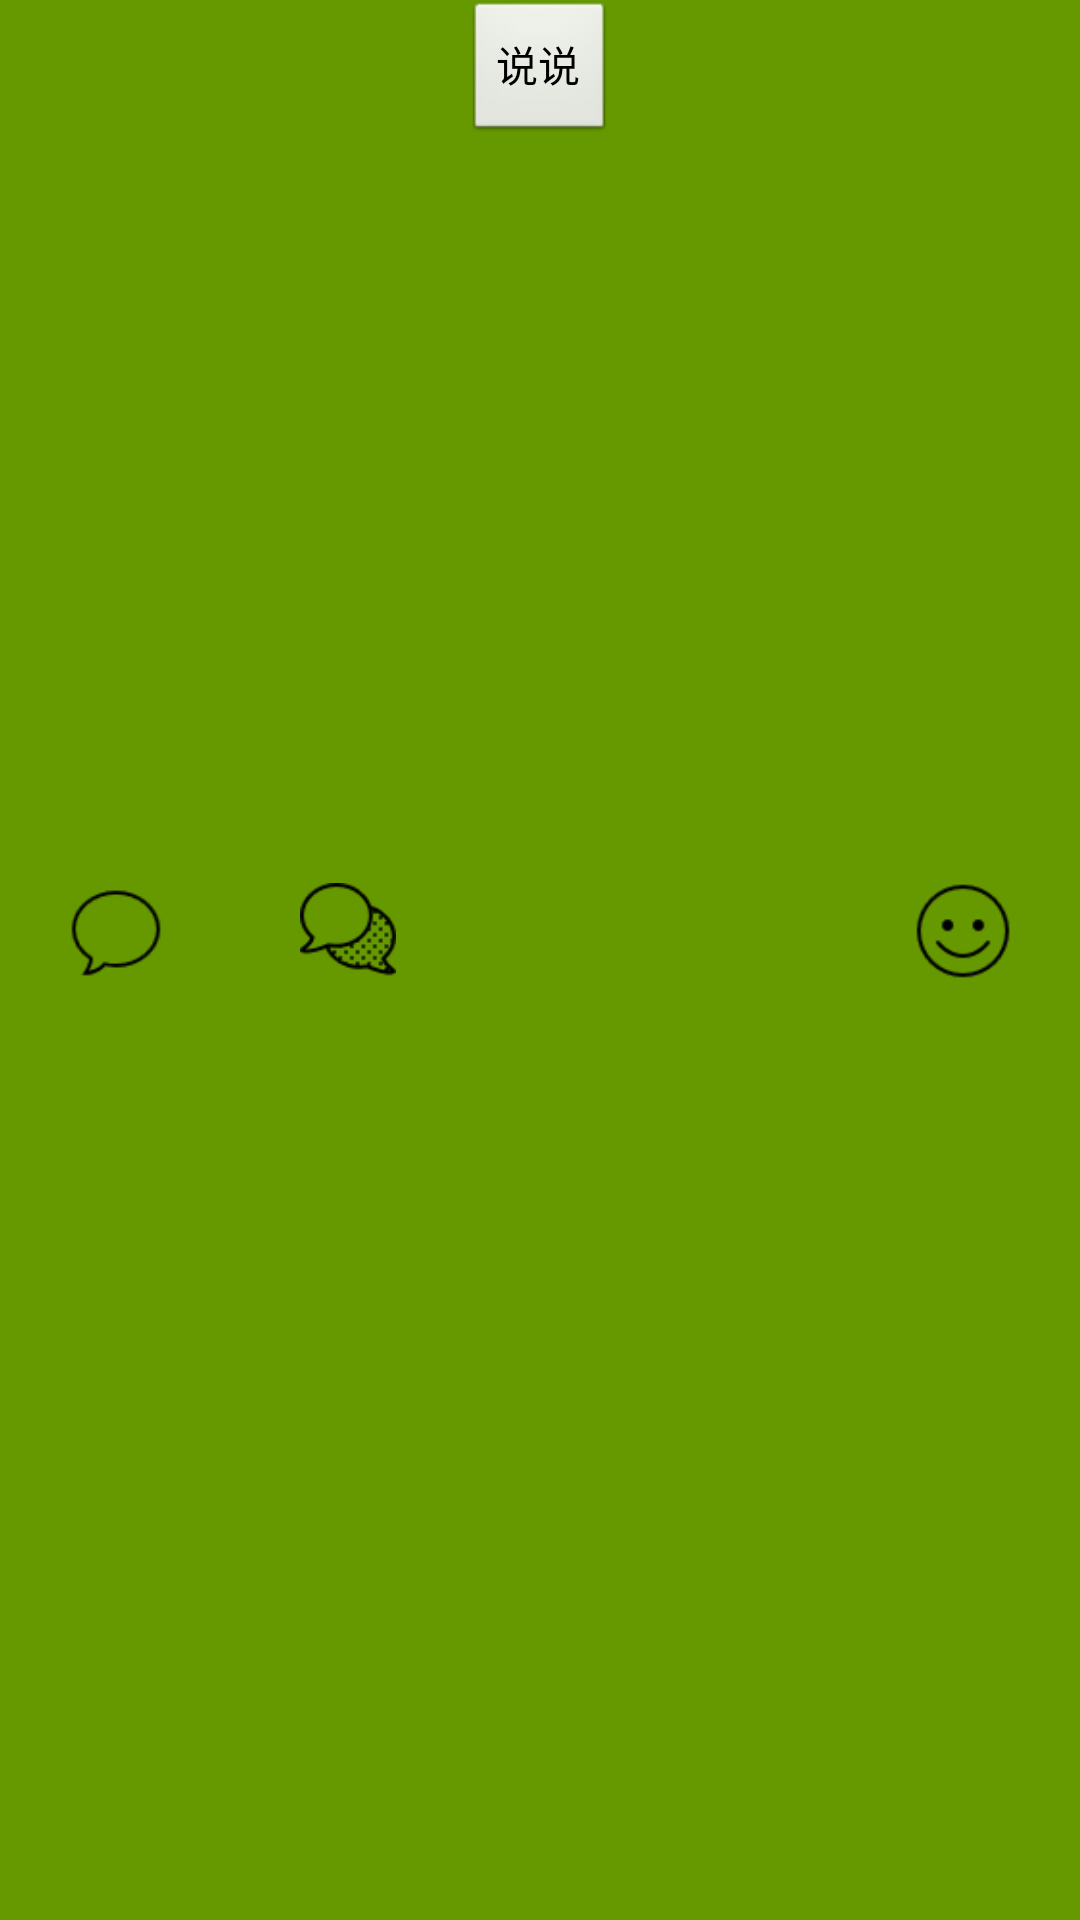

Where icons sit on this 1080w x 1920h app screen, as BBox(x1, y1, x2, y2):
chat: BBox(300, 883, 396, 976)
happy: BBox(916, 884, 1010, 978)
speech bubble: BBox(71, 890, 161, 976)
